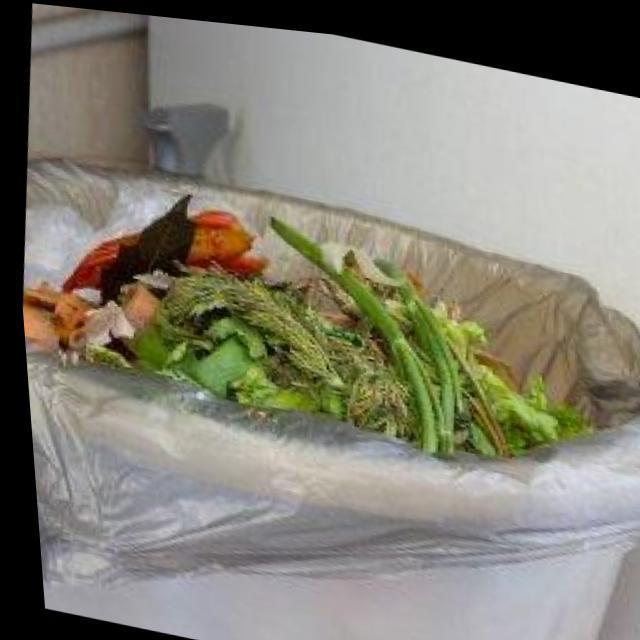Garbage: (18, 184, 602, 453)
